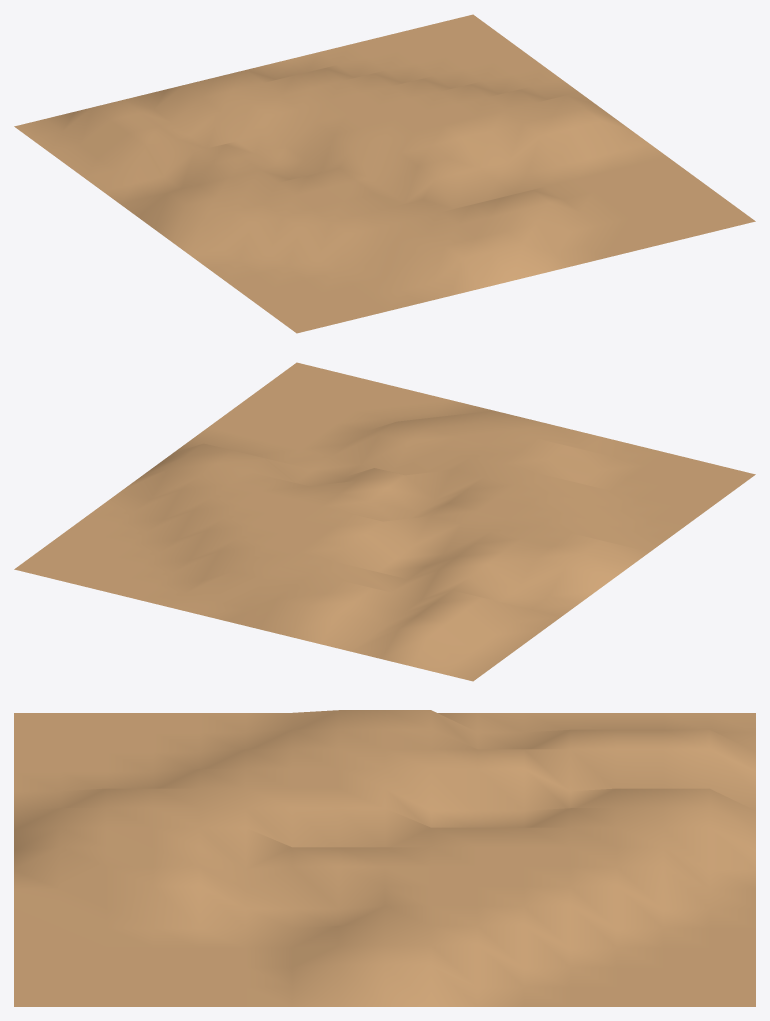
Rendered from PastoCentralTest.fbx.
The picture shows the model from 3 angles, top to bottom: view 1: azimuth 30°, elevation 25°; view 2: azimuth 150°, elevation 25°; view 3: azimuth 270°, elevation 25°; orthographic projection. The views are drawn at different scales.
Visible parts, largest first — view 1: Suelo.001; view 2: Suelo.001; view 3: Suelo.001.
Part boxes in pixels (x1,y1,x2,y2): Suelo.001: (14,14,755,333); Suelo.001: (14,362,755,681); Suelo.001: (14,710,755,1006).
Bounding box in the file's own units: 6516 × 230 × 6951.
